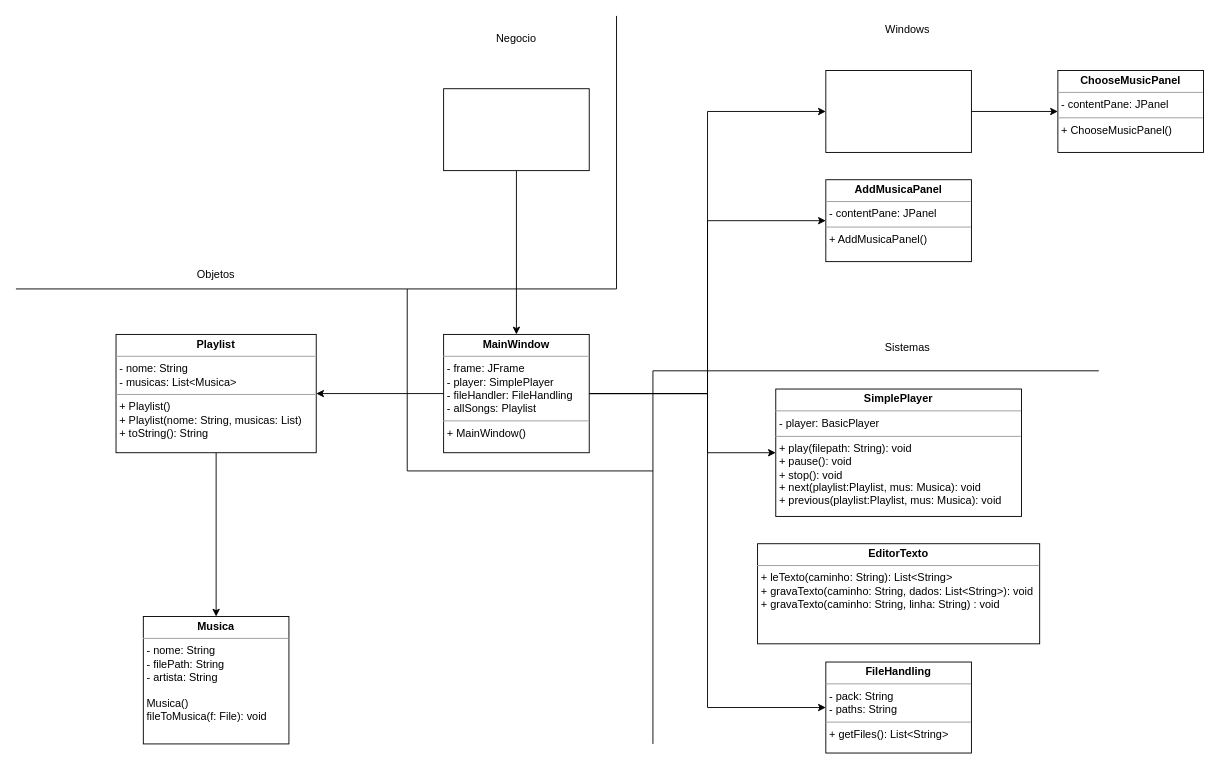
The diagram is 1219 pixels wide and 769 high, and some of its shapes have lost their labels. The shapes that lost their labels are listed below. From the top down, each one's centre as x and y in pixels, then its label:
At point (516, 129): "Main + window: MainWindow + main(): void".
At point (898, 111): "AddPlaylistPanel - contentPane: JPanel + AddPlaylistPanel()".
